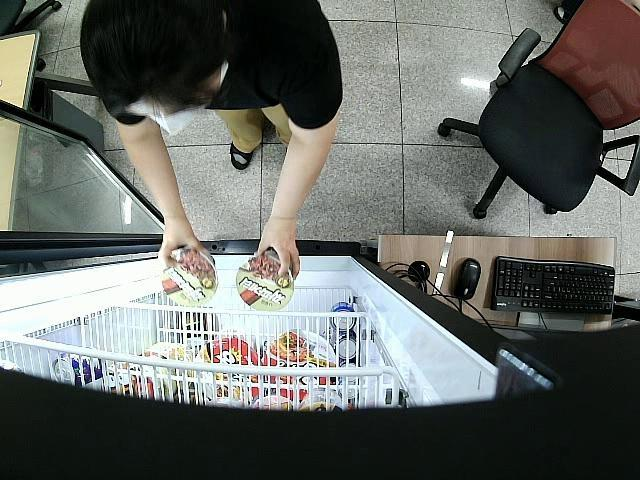03_chapagetti_L: (159, 244, 218, 306), (237, 250, 294, 311)
